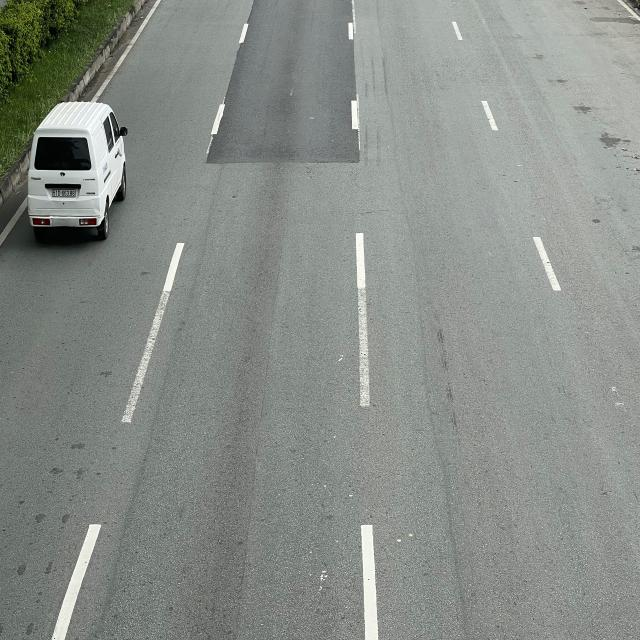van: (26, 101, 129, 240)
